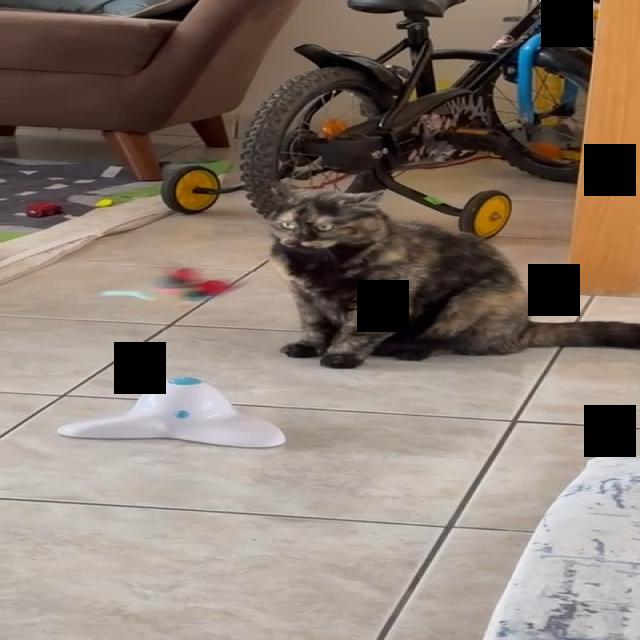authorized: (261, 180, 639, 369)
